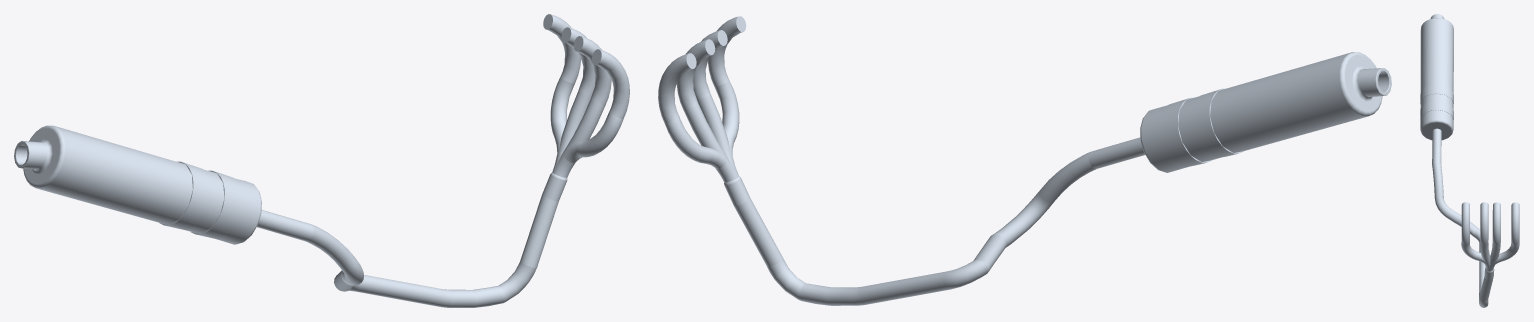
The model's file is RB-009_viewer.glb.
3 views of the same model, side by side, from view 1: azimuth 30°, elevation 25°; view 2: azimuth 150°, elevation 25°; view 3: azimuth 270°, elevation 25° (orthographic). The views are drawn at different scales.
Visible parts, largest first — view 1: basebody_imported1; view 2: basebody_imported1; view 3: basebody_imported1.
Part boxes in pixels (x1,y1,x2,y2): basebody_imported1: [14, 14, 629, 307]; basebody_imported1: [658, 16, 1391, 305]; basebody_imported1: [1420, 14, 1519, 307].
Size of the model in its own units: 0.0907 by 0.0445 by 0.024.
